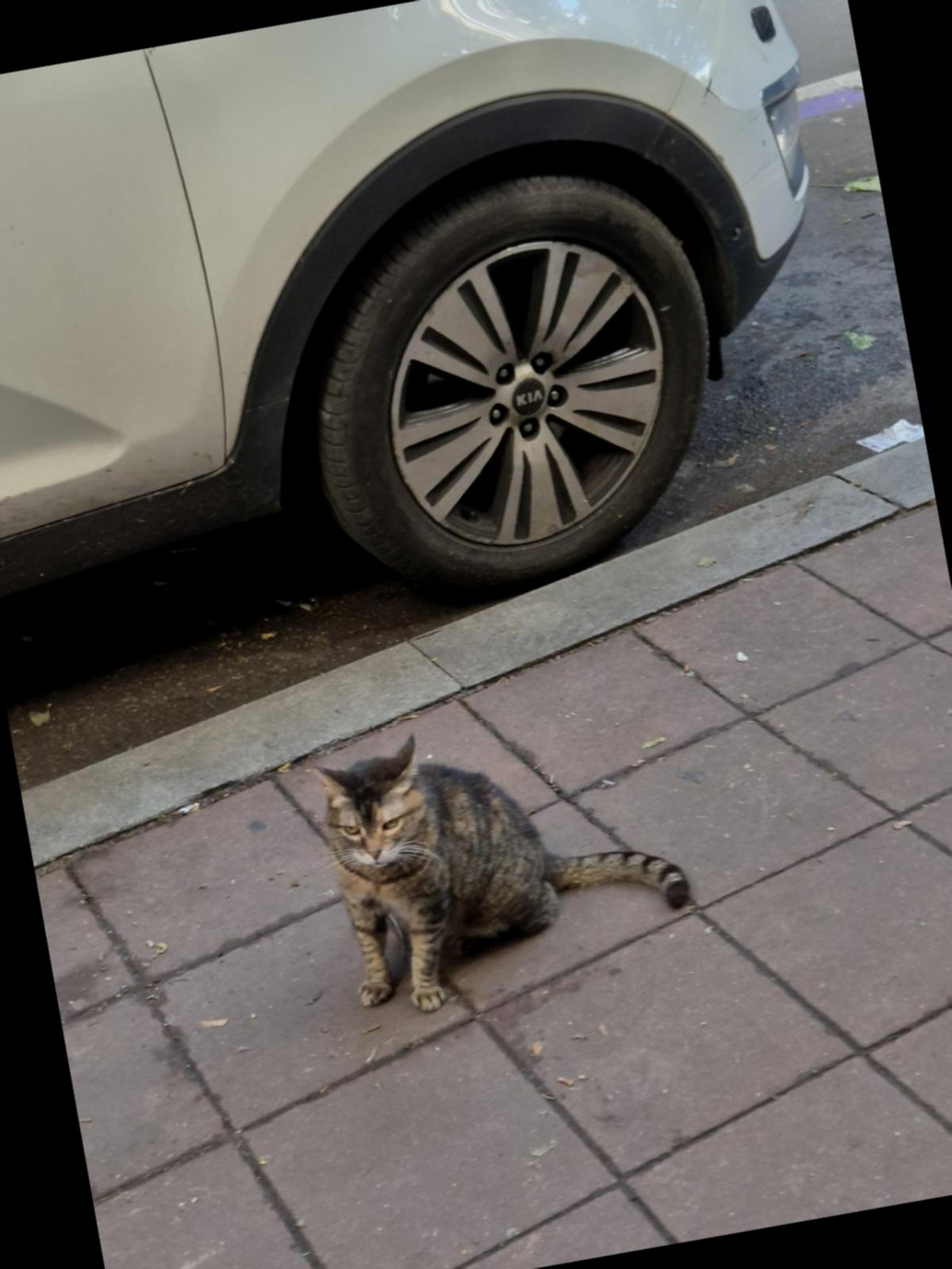macka: (308, 688, 703, 1026)
